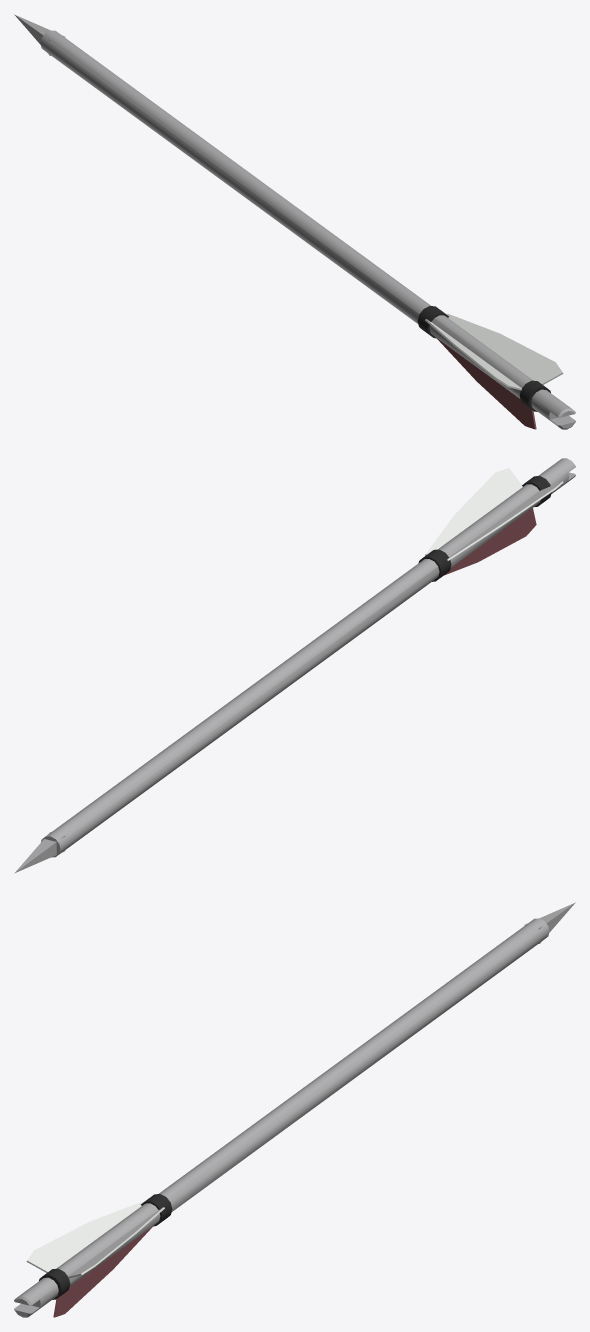
File: crossbow_bolt.glb
3 views of the same model, one above another, from view 1: azimuth 30°, elevation 25°; view 2: azimuth 150°, elevation 25°; view 3: azimuth 330°, elevation 25° (orthographic).
Visible parts, largest first — view 1: body, vanes; view 2: body, vanes; view 3: body, vanes.
Part boxes in pixels (bbox=[...]): body: bbox=[14, 14, 575, 429]; vanes: bbox=[425, 313, 563, 429]; body: bbox=[14, 458, 575, 873]; vanes: bbox=[425, 468, 563, 575]; body: bbox=[14, 902, 575, 1317]; vanes: bbox=[26, 1201, 164, 1317].
Size of the model in its own units: 0.0245 by 0.0213 by 0.38.
